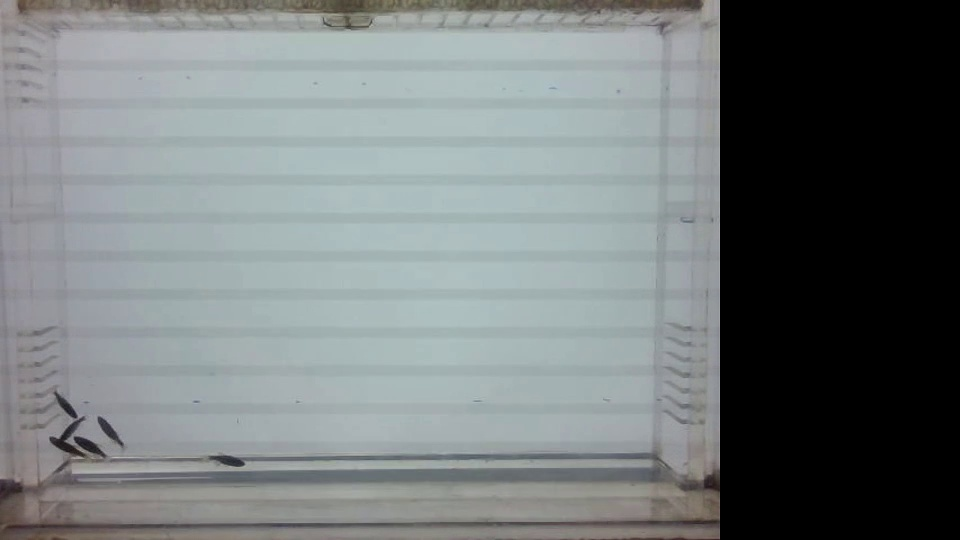fish: (197, 444, 248, 470), (92, 413, 128, 449), (69, 432, 106, 464), (44, 433, 78, 464), (44, 388, 73, 420), (56, 416, 84, 440)
